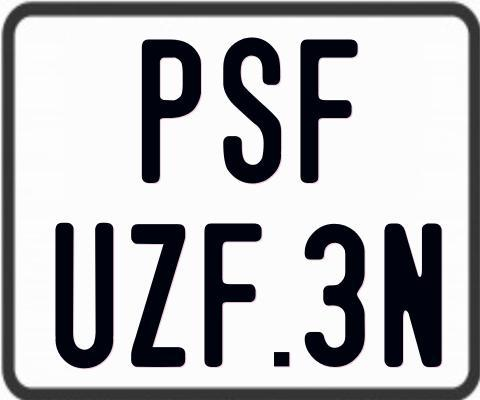3: (305, 222, 368, 366)
F: (204, 223, 268, 368), (298, 37, 359, 186)
N: (383, 221, 443, 369)
P: (141, 38, 204, 186)
S: (221, 36, 281, 188)
U: (53, 221, 115, 366)
Z: (128, 221, 187, 369)
